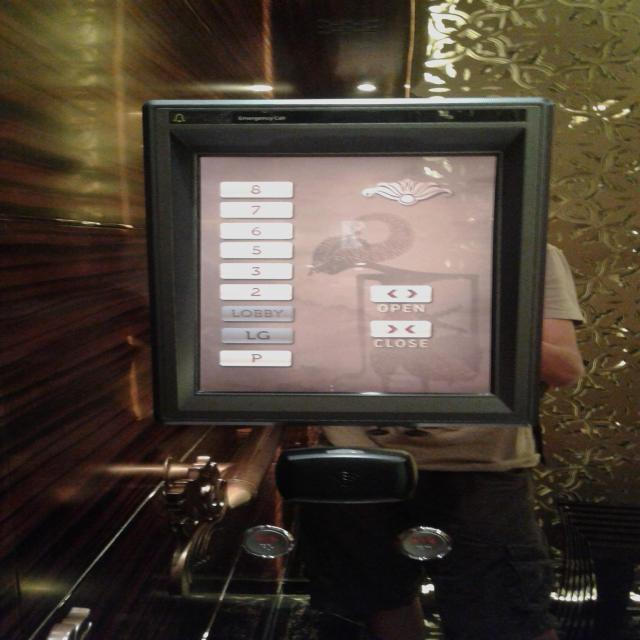2: (216, 282, 294, 301)
3: (217, 260, 295, 280)
5: (218, 240, 295, 259)
6: (217, 220, 295, 240)
7: (217, 200, 295, 219)
8: (217, 180, 295, 198)
LG: (219, 326, 296, 344)
P: (217, 348, 294, 367)
close: (365, 318, 435, 338)
open: (366, 284, 435, 304)
text_lobby: (217, 304, 295, 322)
